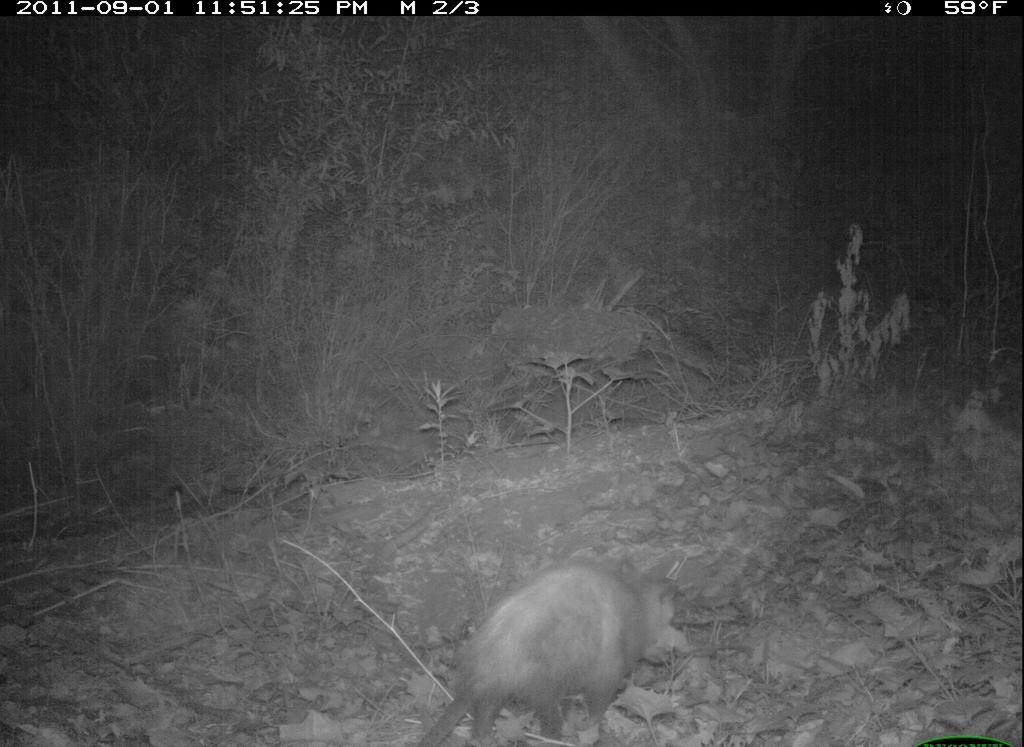opossum: (391, 539, 731, 745)
